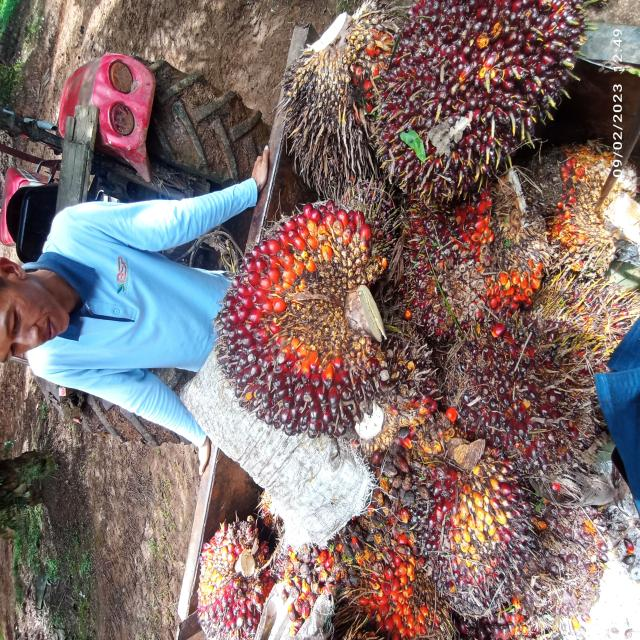fraksi 1: (181, 193, 409, 452), (352, 0, 595, 203), (440, 294, 598, 480), (412, 435, 548, 632)
fraksi 3: (172, 521, 276, 632)
fraksi 4: (455, 189, 543, 304), (350, 546, 440, 640)
